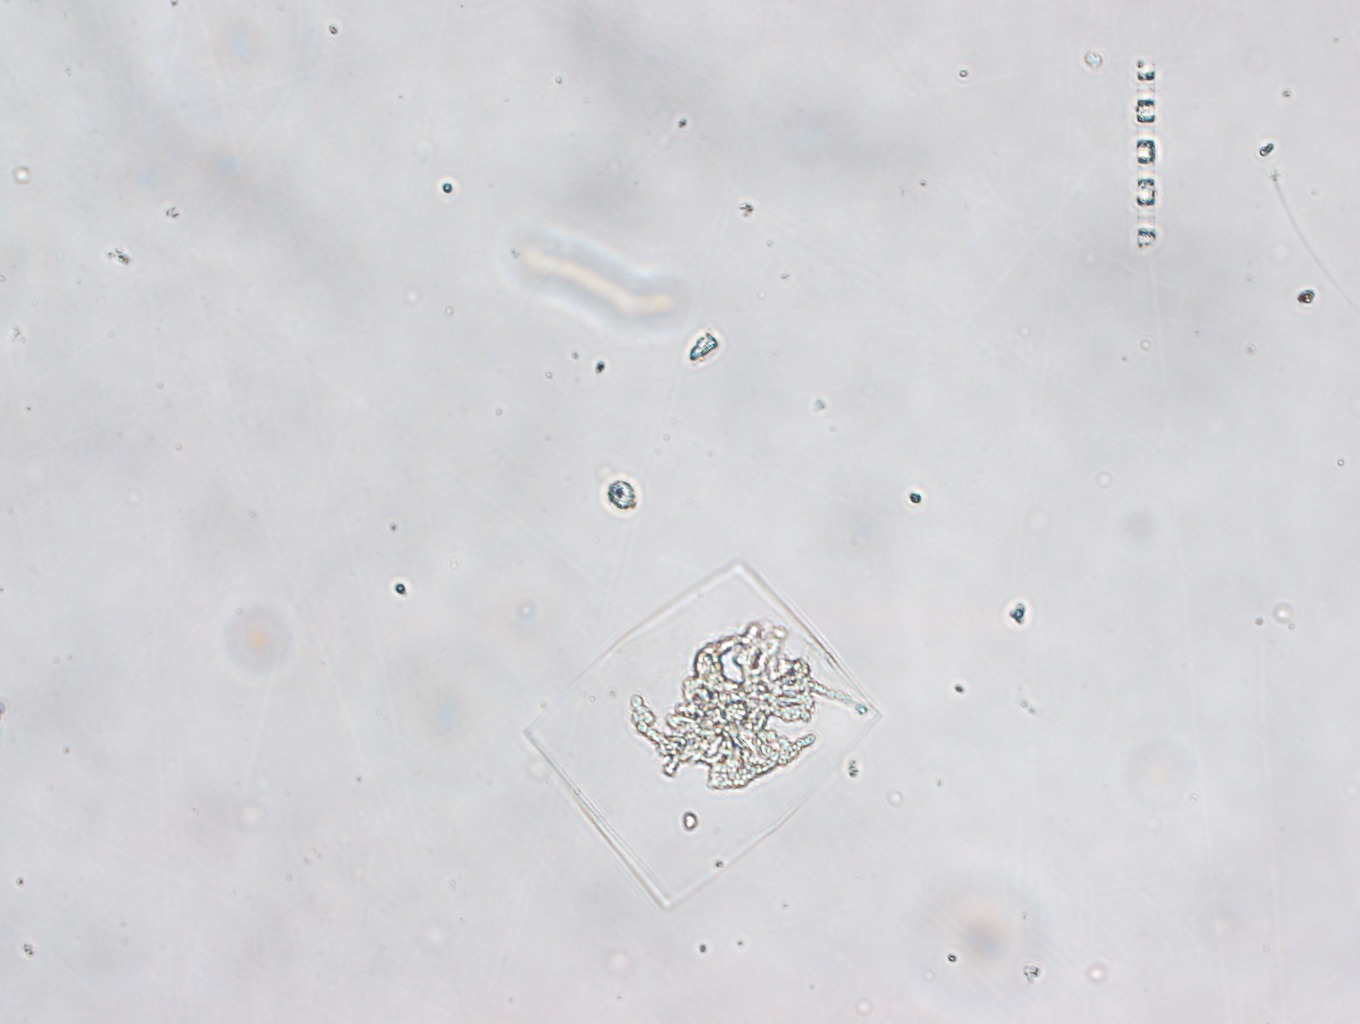helicotheca: (522, 561, 883, 909)
skeletonema: (1133, 55, 1158, 257)
